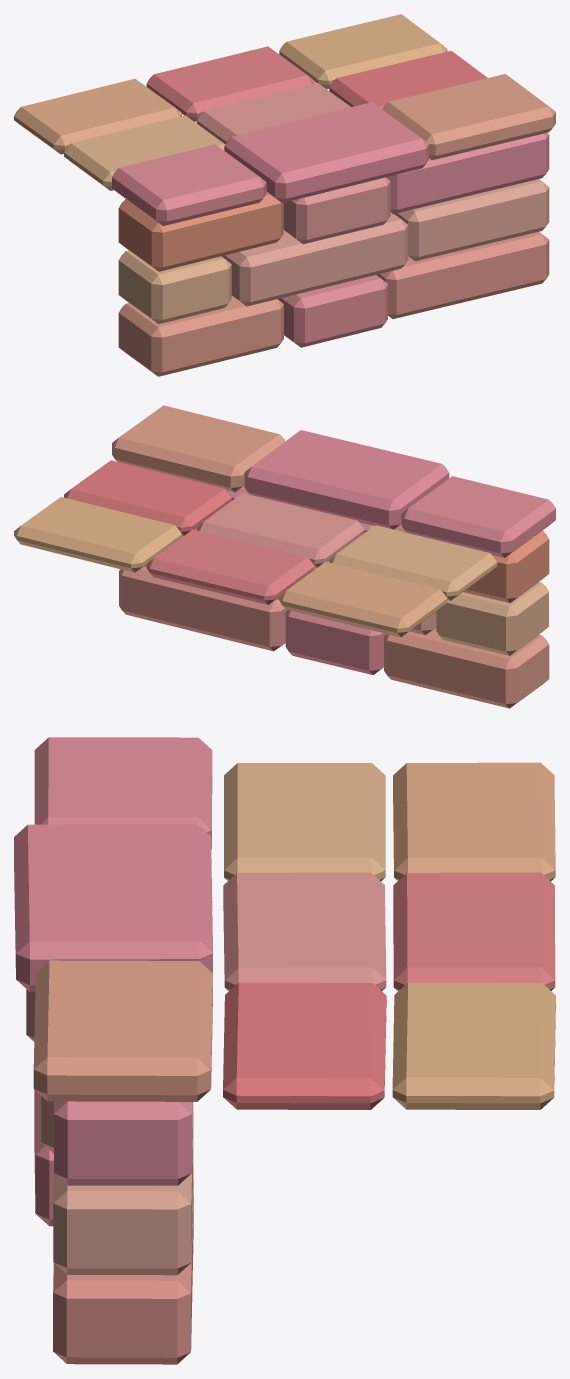
The model's file is WC_RIVER_Bank_PathTransition_A.glb.
3 renders of one model, top to bottom at view 1: azimuth 30°, elevation 25°; view 2: azimuth 150°, elevation 25°; view 3: azimuth 270°, elevation 25°, orthographic. The views are drawn at different scales.
Visible parts, largest first — view 1: WC_RIVER_Bank_PathTransition_A_RenderMesh; view 2: WC_RIVER_Bank_PathTransition_A_RenderMesh; view 3: WC_RIVER_Bank_PathTransition_A_RenderMesh.
Part boxes in pixels (x1,y1,x2,y2): WC_RIVER_Bank_PathTransition_A_RenderMesh: [14, 14, 555, 376]; WC_RIVER_Bank_PathTransition_A_RenderMesh: [14, 405, 555, 708]; WC_RIVER_Bank_PathTransition_A_RenderMesh: [14, 737, 555, 1364].
Size of the model in its own units: 1.99 by 0.8795 by 1.37.
